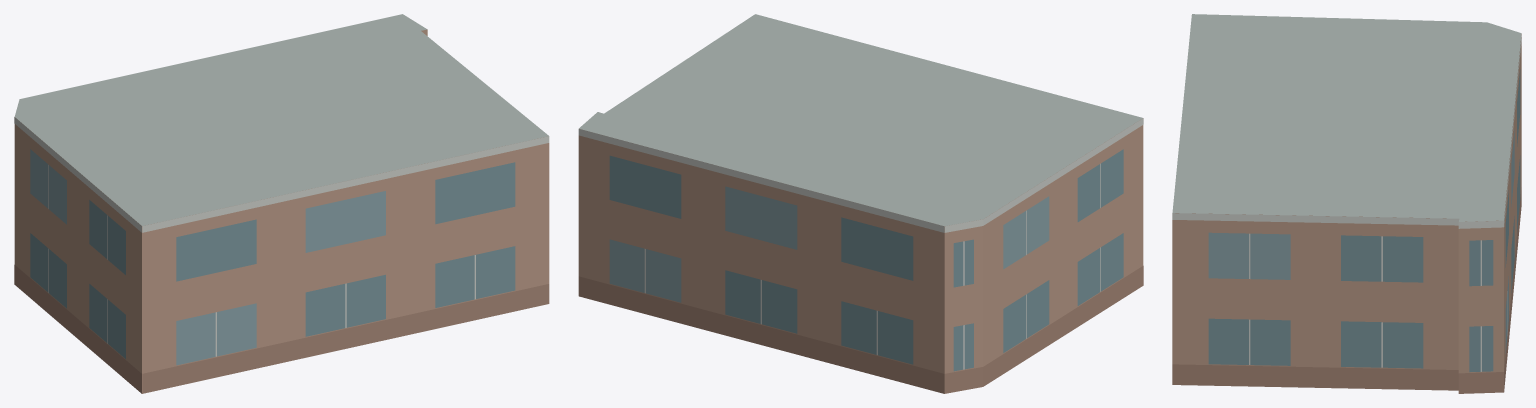
The model's file is survey-upis-32689399.glb.
3 views of the same model, side by side, from view 1: azimuth 30°, elevation 25°; view 2: azimuth 150°, elevation 25°; view 3: azimuth 270°, elevation 25° (orthographic). The views are drawn at different scales.
Parts seen in each view (by area): view 1: survey-upis-32689399.tmp; view 2: survey-upis-32689399.tmp; view 3: survey-upis-32689399.tmp.
Part boxes in pixels (left/top/right/bottom): survey-upis-32689399.tmp: left=14, top=14, right=549, bottom=393; survey-upis-32689399.tmp: left=578, top=14, right=1143, bottom=393; survey-upis-32689399.tmp: left=1172, top=14, right=1521, bottom=393.
Size of the model in its own units: 15.84 by 6.1 by 11.24.
